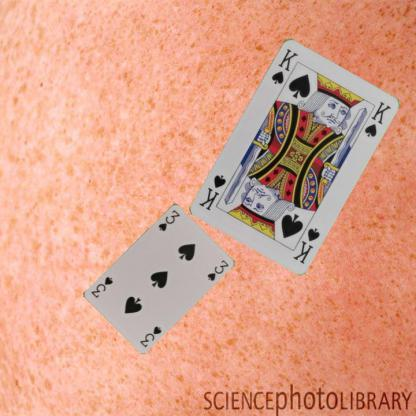3s: (137, 323, 163, 348), (156, 207, 181, 232)
Ks: (290, 224, 321, 264), (269, 45, 299, 86)
